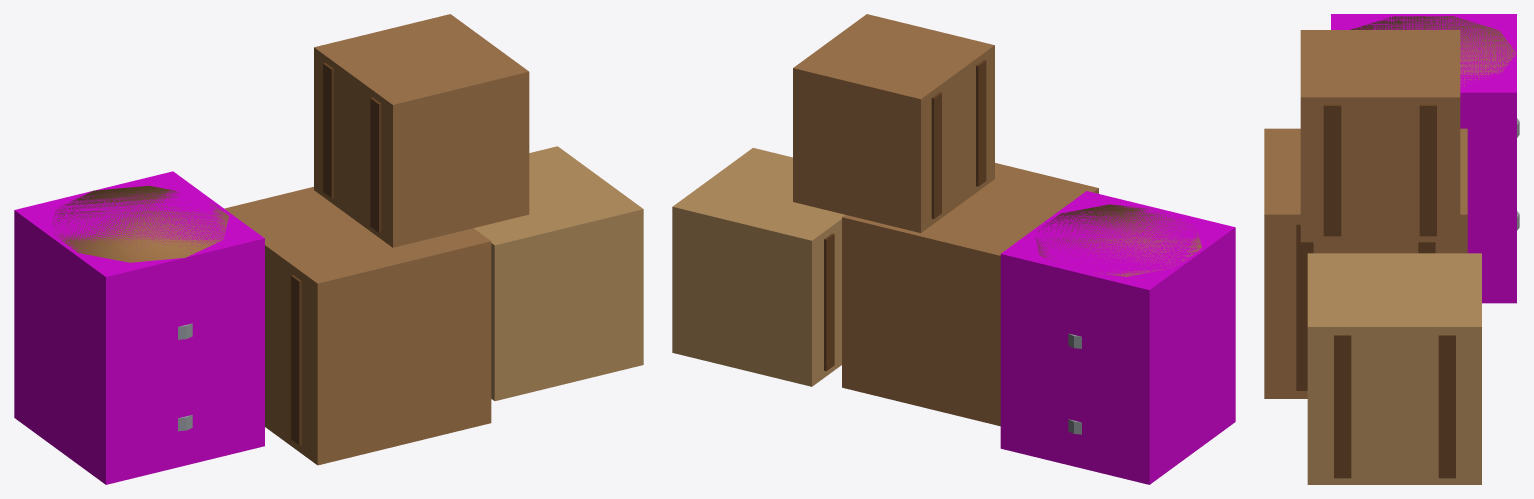
The model's file is crates.glb.
3 views of the same model, side by side, from view 1: azimuth 30°, elevation 25°; view 2: azimuth 150°, elevation 25°; view 3: azimuth 270°, elevation 25° (orthographic). The views are drawn at different scales.
Parts seen in each view (by area): view 1: crates, COL_crates; view 2: crates, COL_crates; view 3: crates, COL_crates.
Part boxes in pixels (bbox=[...]): crates: bbox=[53, 14, 643, 465]; COL_crates: bbox=[14, 171, 264, 484]; crates: bbox=[672, 14, 1201, 434]; COL_crates: bbox=[1000, 191, 1235, 484]; crates: bbox=[1264, 16, 1519, 484]; COL_crates: bbox=[1331, 14, 1516, 303].
Bounding box in the file's own units: 2.13 × 1.25 × 0.8796.
